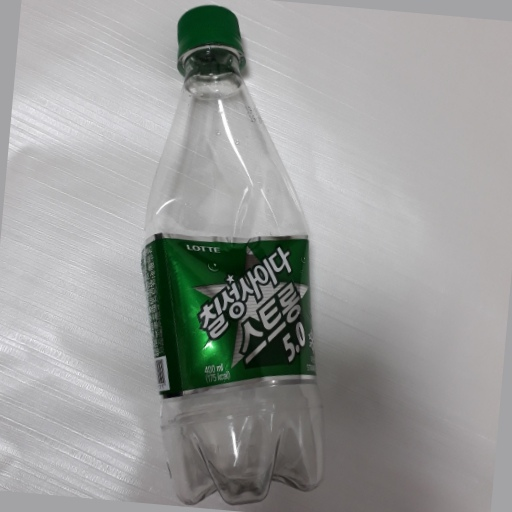Plastic_0: (141, 4, 325, 502)
